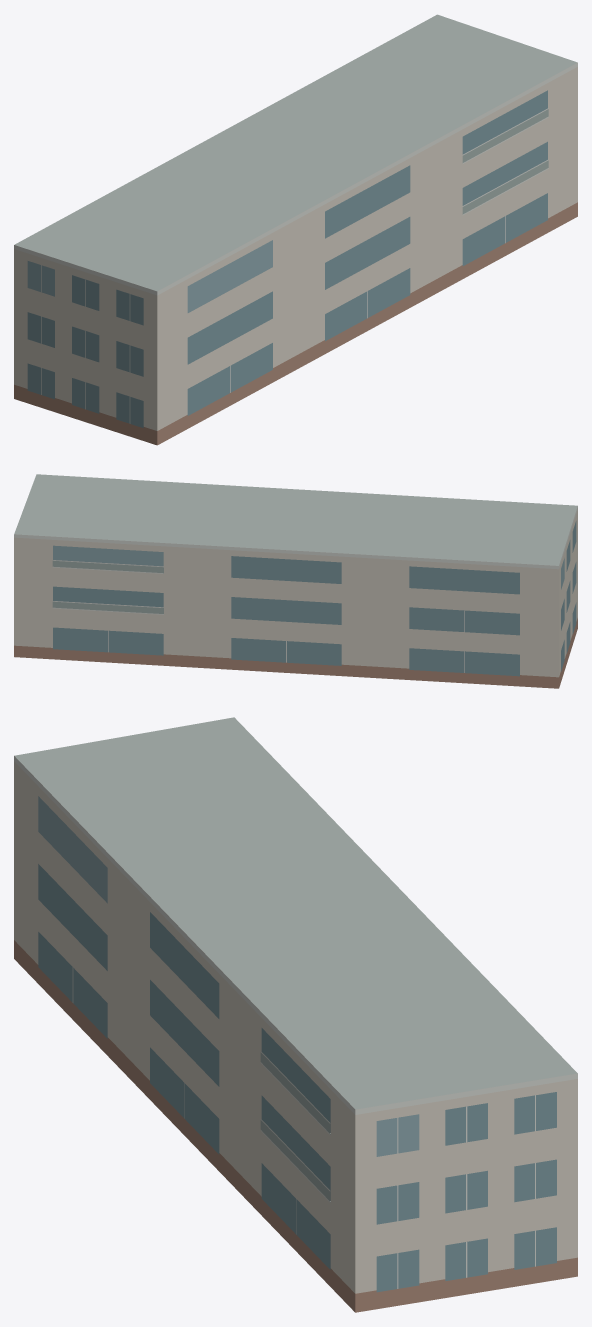
File: survey-upis-32769891.glb
3 views of the same model, one above another, from view 1: azimuth 30°, elevation 25°; view 2: azimuth 150°, elevation 25°; view 3: azimuth 270°, elevation 25° (orthographic). The views are drawn at different scales.
Parts seen in each view (by area): view 1: survey-upis-32769891.tmp; view 2: survey-upis-32769891.tmp; view 3: survey-upis-32769891.tmp.
Part boxes in pixels (bbox=[...]): survey-upis-32769891.tmp: bbox=[14, 14, 577, 445]; survey-upis-32769891.tmp: bbox=[14, 474, 577, 688]; survey-upis-32769891.tmp: bbox=[14, 717, 577, 1312].
Bounding box in the file's own units: 37.92 × 9.15 × 23.03.
